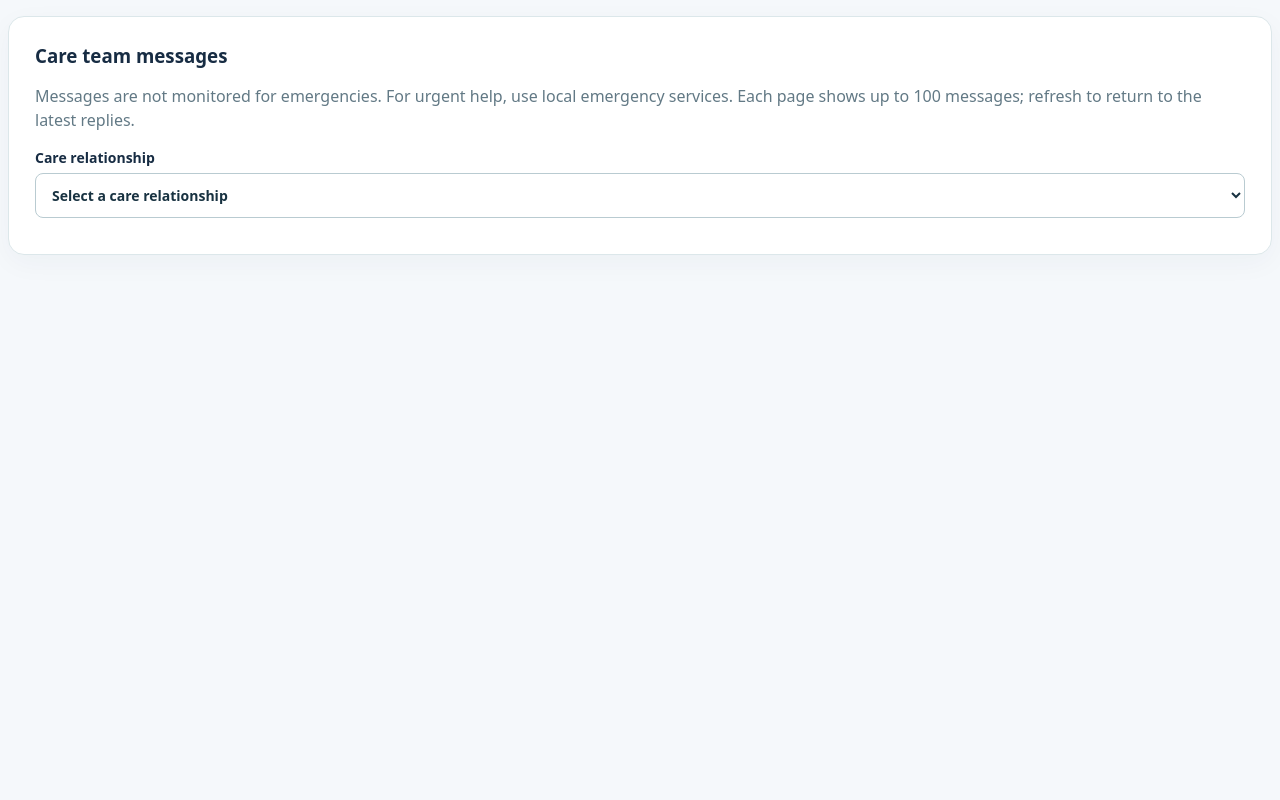
Test: opens older messages and refreshes back to the newest page
Select "Doctor doctor · active · Relationship rel" in the dropdown labelled "Care relationship": coordinates (640, 196) [35,173,1245,218]
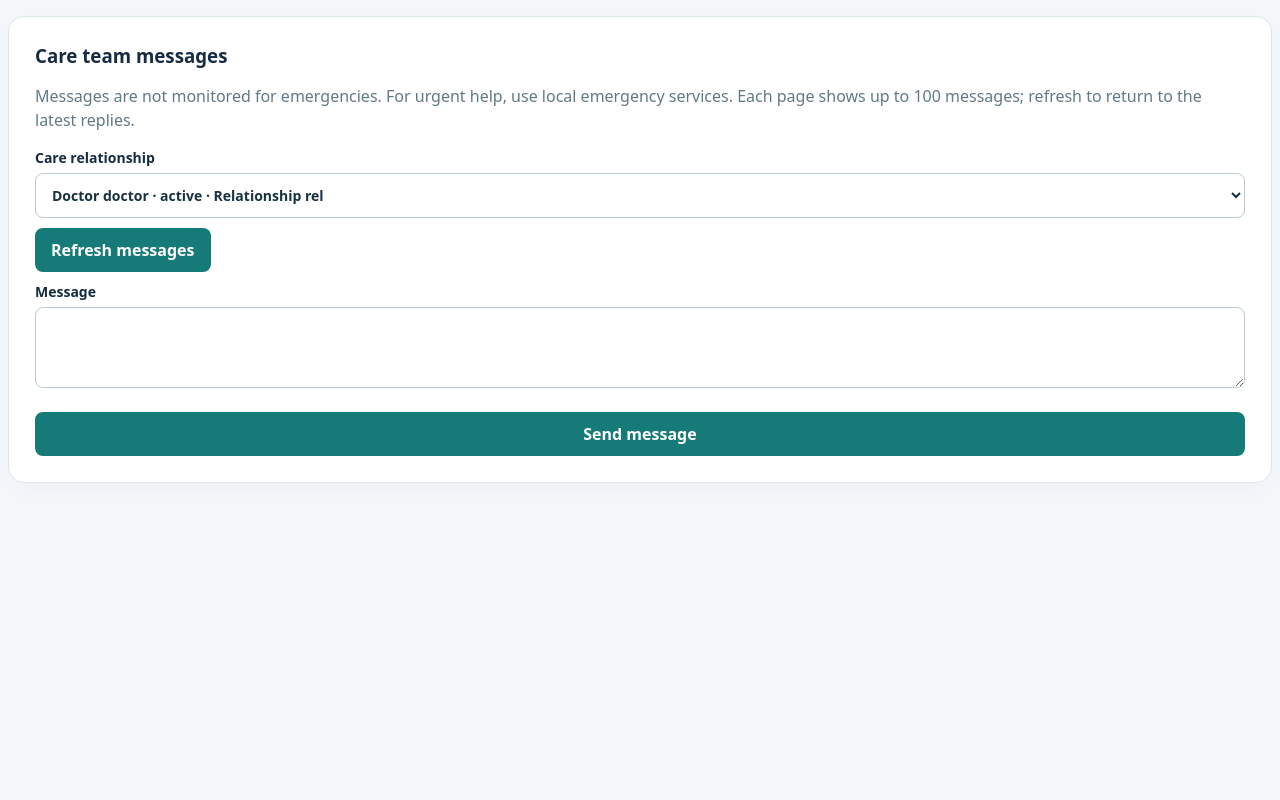
Click the button "Refresh messages": coordinates (123, 250) [35,228,210,272]
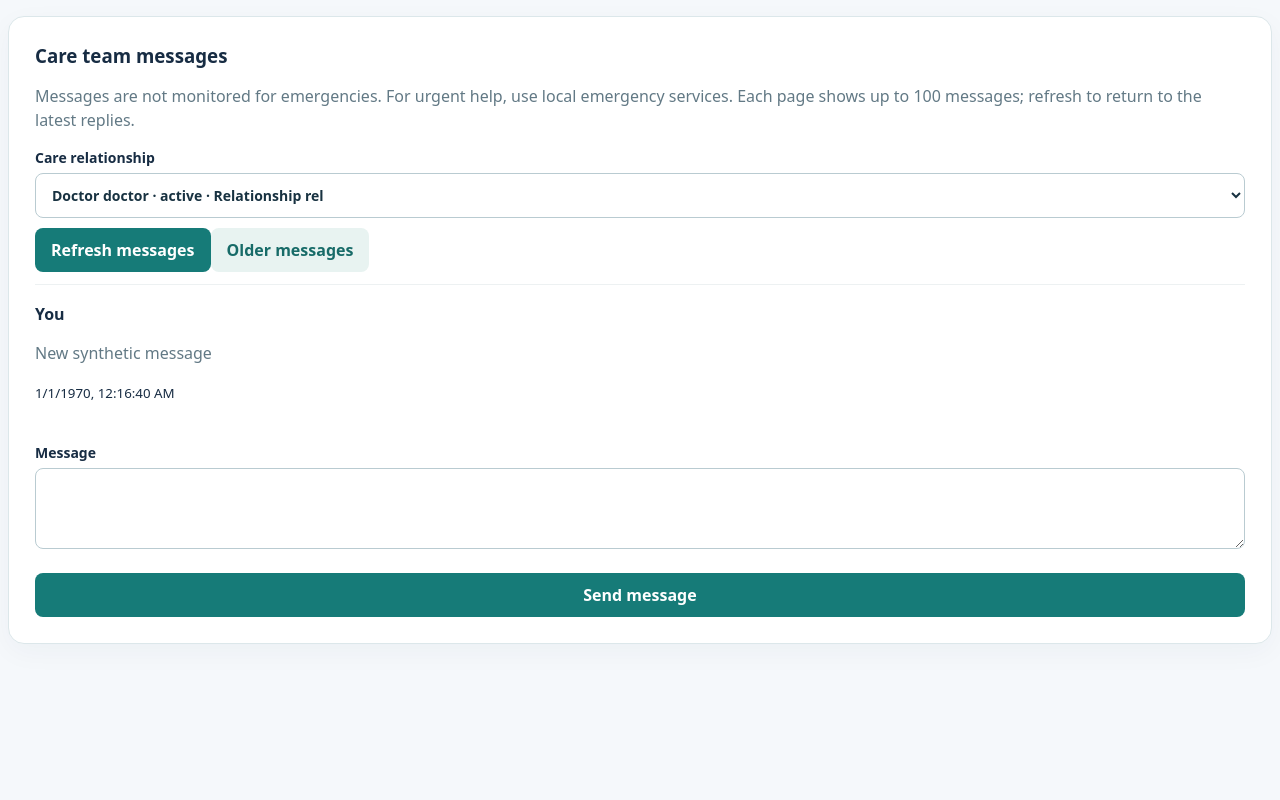
Expected: the text "New synthetic message" is shown, [35,342,212,364]
Click the button "Older messages": coordinates (290, 250) [210,228,369,272]
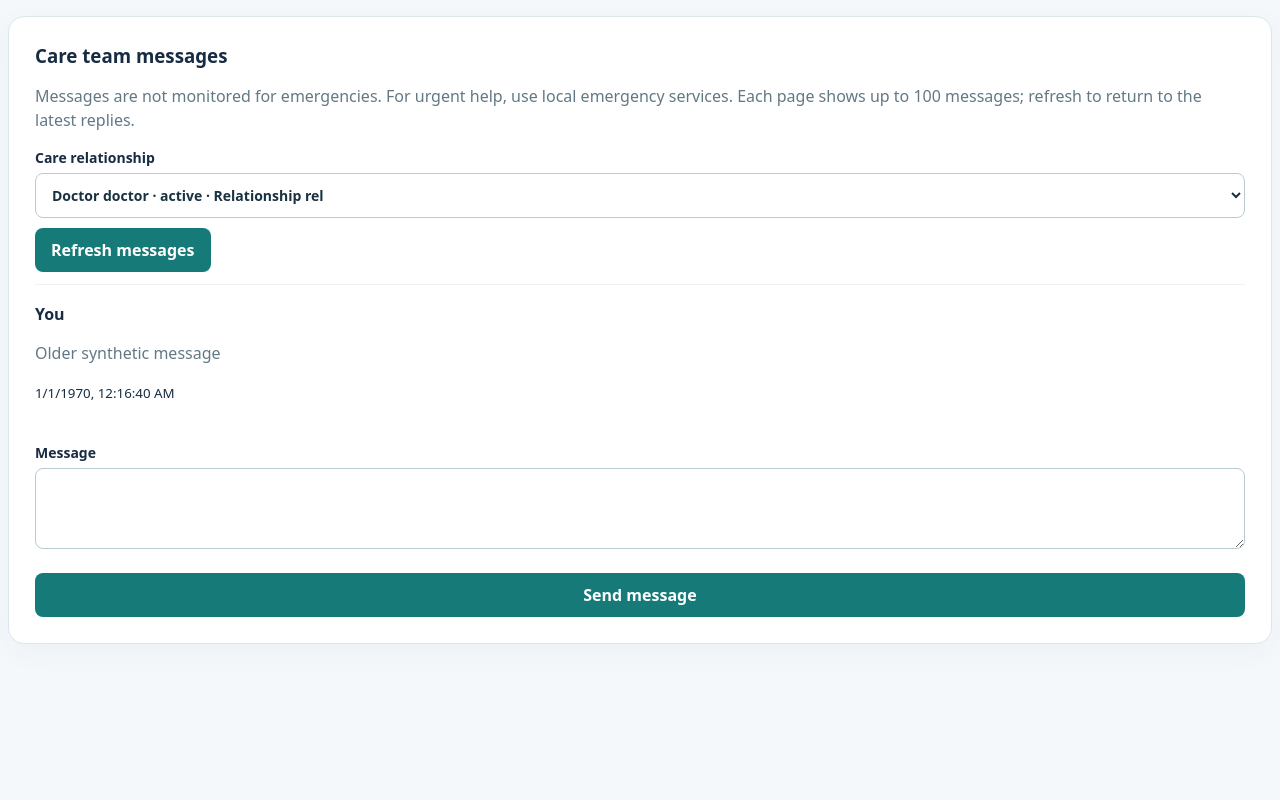
Expected: the text "Older synthetic message" is shown, [35,342,221,364]
Expected: the text "New synthetic message" is gone
Click the button "Refresh messages": coordinates (123, 250) [35,228,210,272]
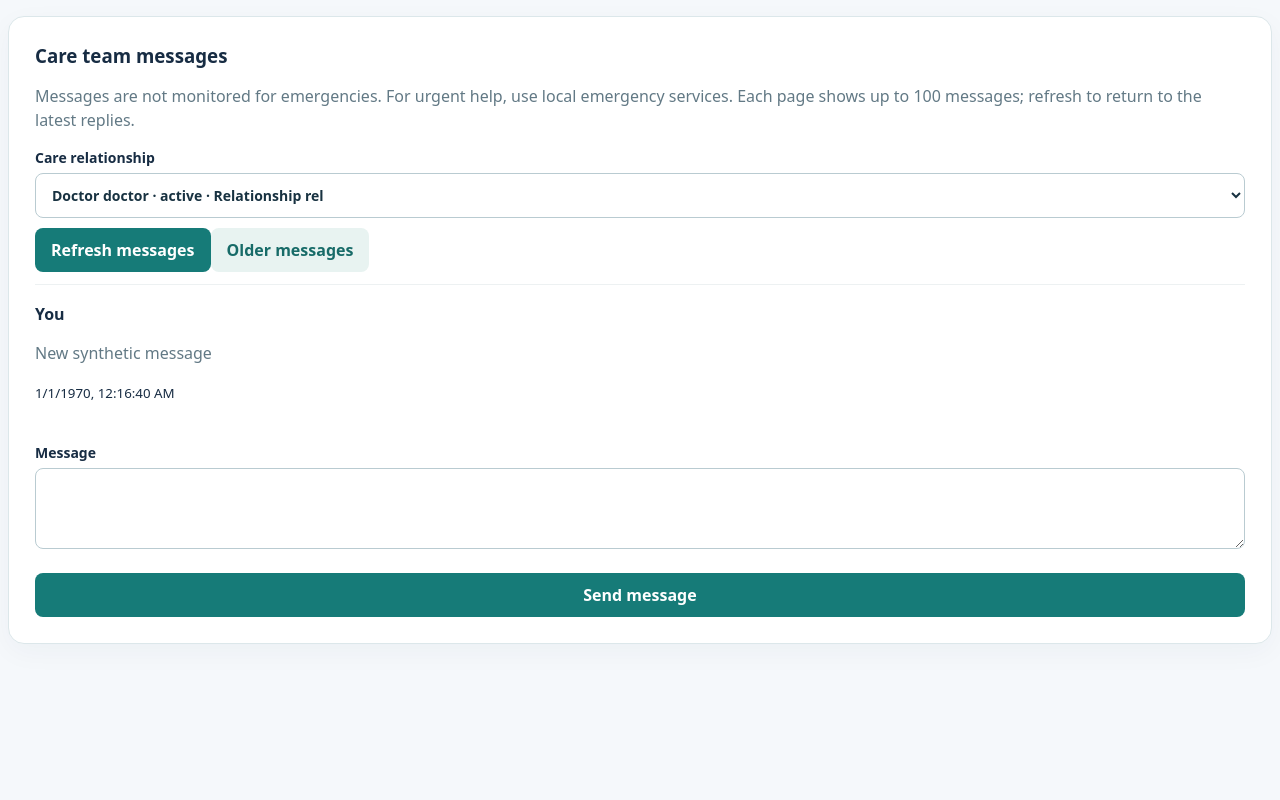
Expected: the text "New synthetic message" is shown, [35,342,212,364]
